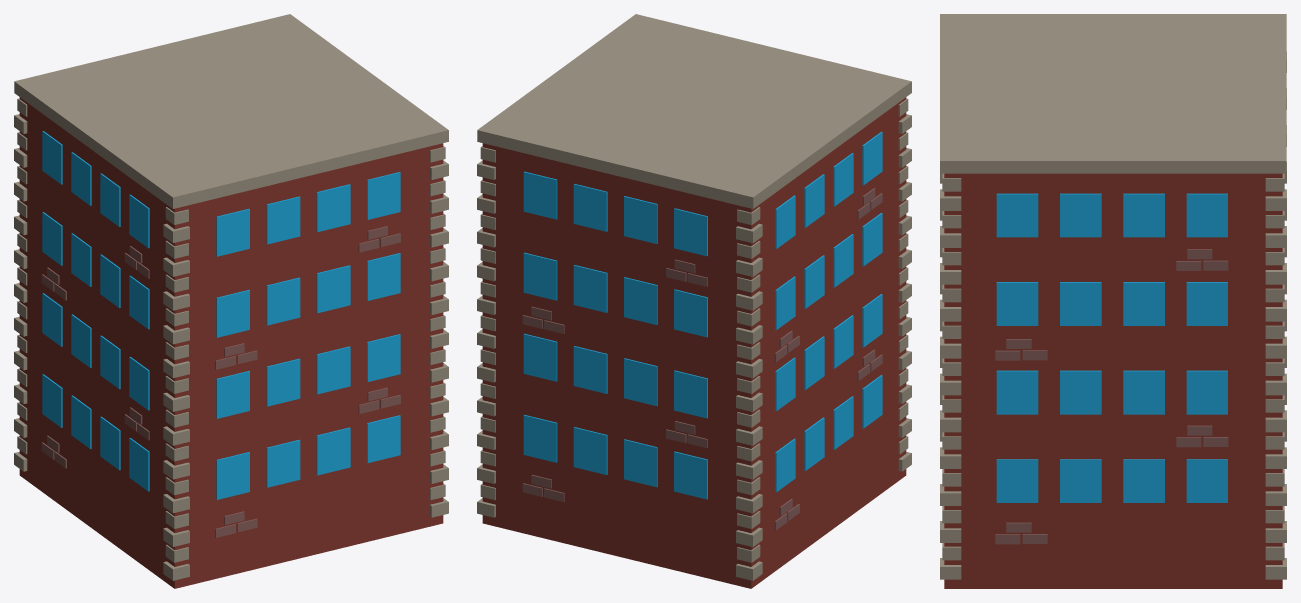
The model's file is City_Building.fbx.
3 views of the same model, side by side, from view 1: azimuth 30°, elevation 25°; view 2: azimuth 150°, elevation 25°; view 3: azimuth 270°, elevation 25° (orthographic). The views are drawn at different scales.
Visible parts, largest first — view 1: Cube.007; view 2: Cube.007; view 3: Cube.007.
Part boxes in pixels (box(x1,y1,x2,y2)): Cube.007: box(14, 14, 448, 588); Cube.007: box(477, 14, 911, 588); Cube.007: box(940, 14, 1286, 588).
Size of the model in its own units: 925 by 928 by 1265.
